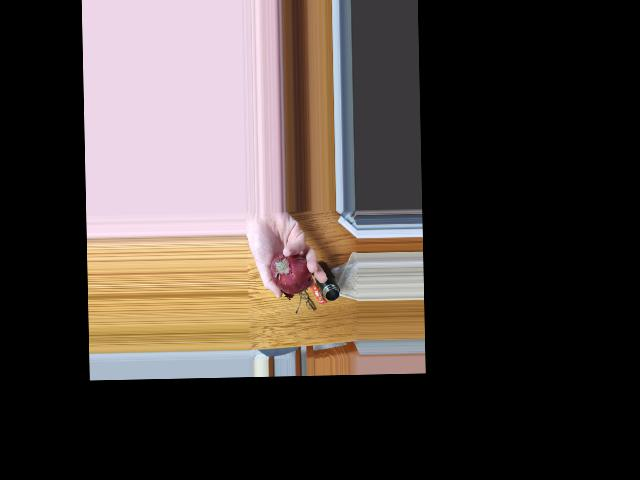onion: (269, 247, 311, 294)
